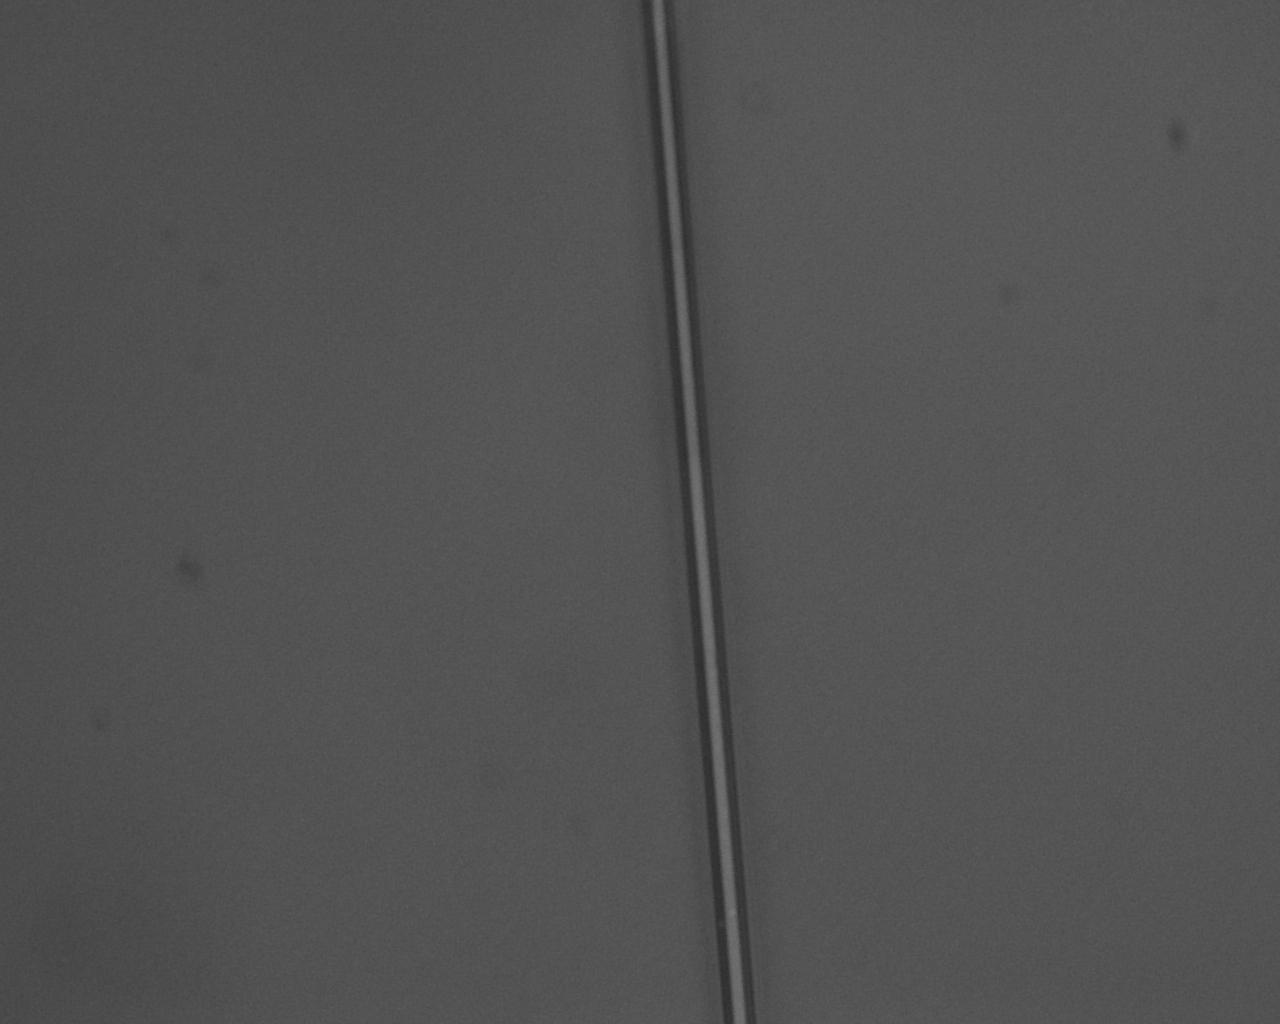fiber: (358, 552, 1249, 1024), (93, 0, 156, 552)
